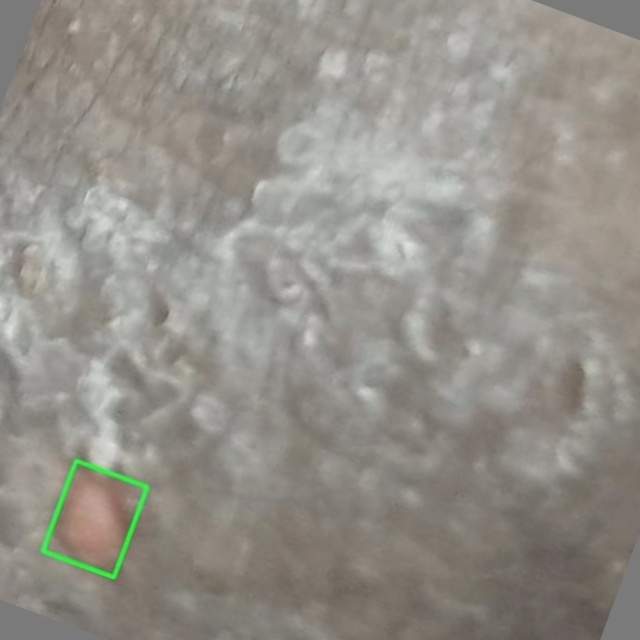Eczema: (42, 460, 147, 577)
